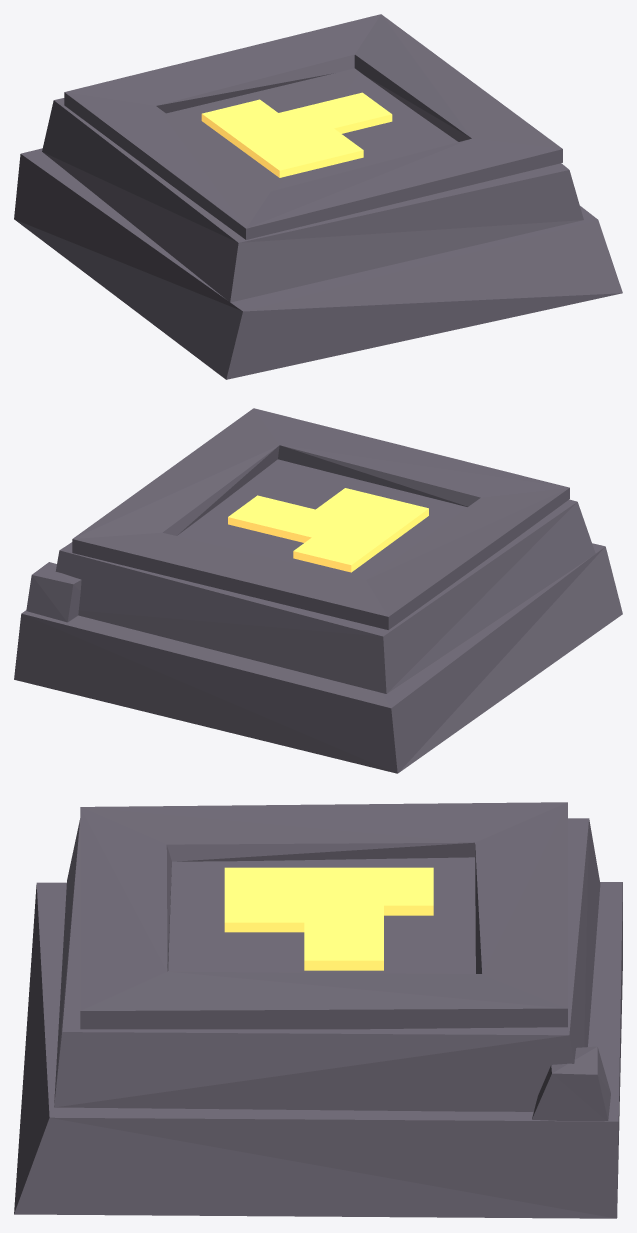
File: CR_Plinth.fbx
The picture shows the model from 3 angles, top to bottom: view 1: azimuth 30°, elevation 25°; view 2: azimuth 150°, elevation 25°; view 3: azimuth 270°, elevation 25°; orthographic projection. The views are drawn at different scales.
Visible parts, largest first — view 1: CR_Plinth_Stone, CR_Plinth_Neon_Glyph; view 2: CR_Plinth_Stone, CR_Plinth_Neon_Glyph; view 3: CR_Plinth_Stone, CR_Plinth_Neon_Glyph.
Part boxes in pixels (box(x1,y1,x2,y2)): CR_Plinth_Stone: box(14, 14, 622, 379); CR_Plinth_Neon_Glyph: box(201, 92, 392, 177); CR_Plinth_Stone: box(14, 408, 622, 773); CR_Plinth_Neon_Glyph: box(228, 488, 428, 572); CR_Plinth_Stone: box(14, 802, 622, 1218); CR_Plinth_Neon_Glyph: box(224, 867, 433, 970).
Size of the model in its own units: 6 by 2 by 6.
